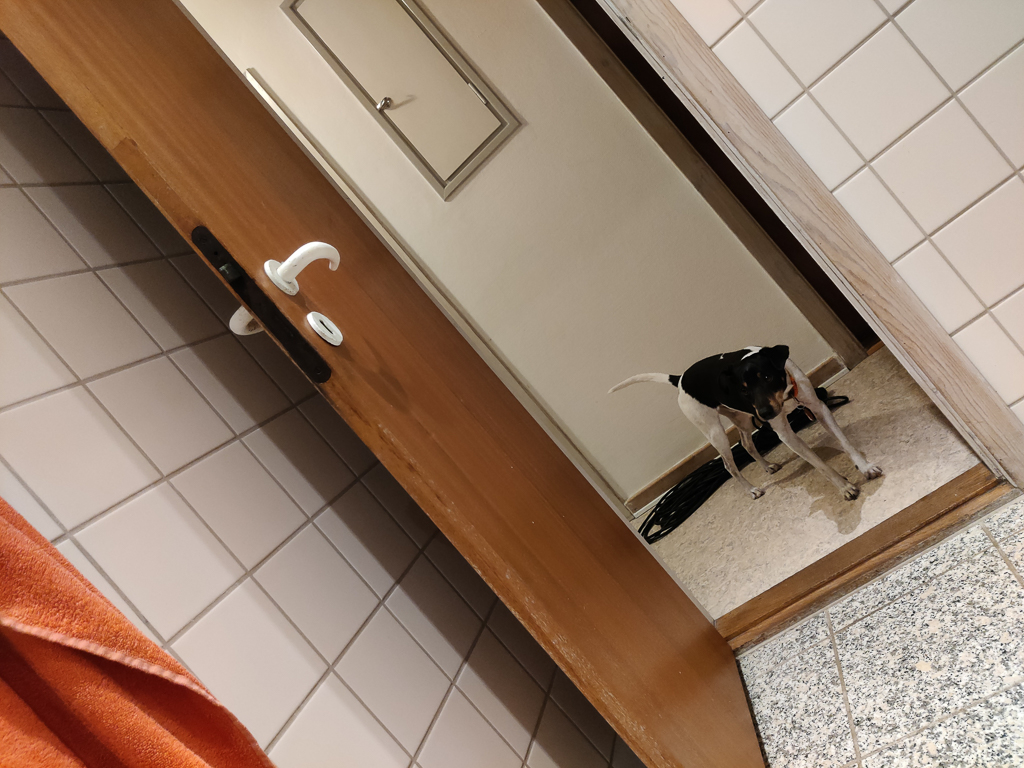Dog: (601, 323, 897, 511)
